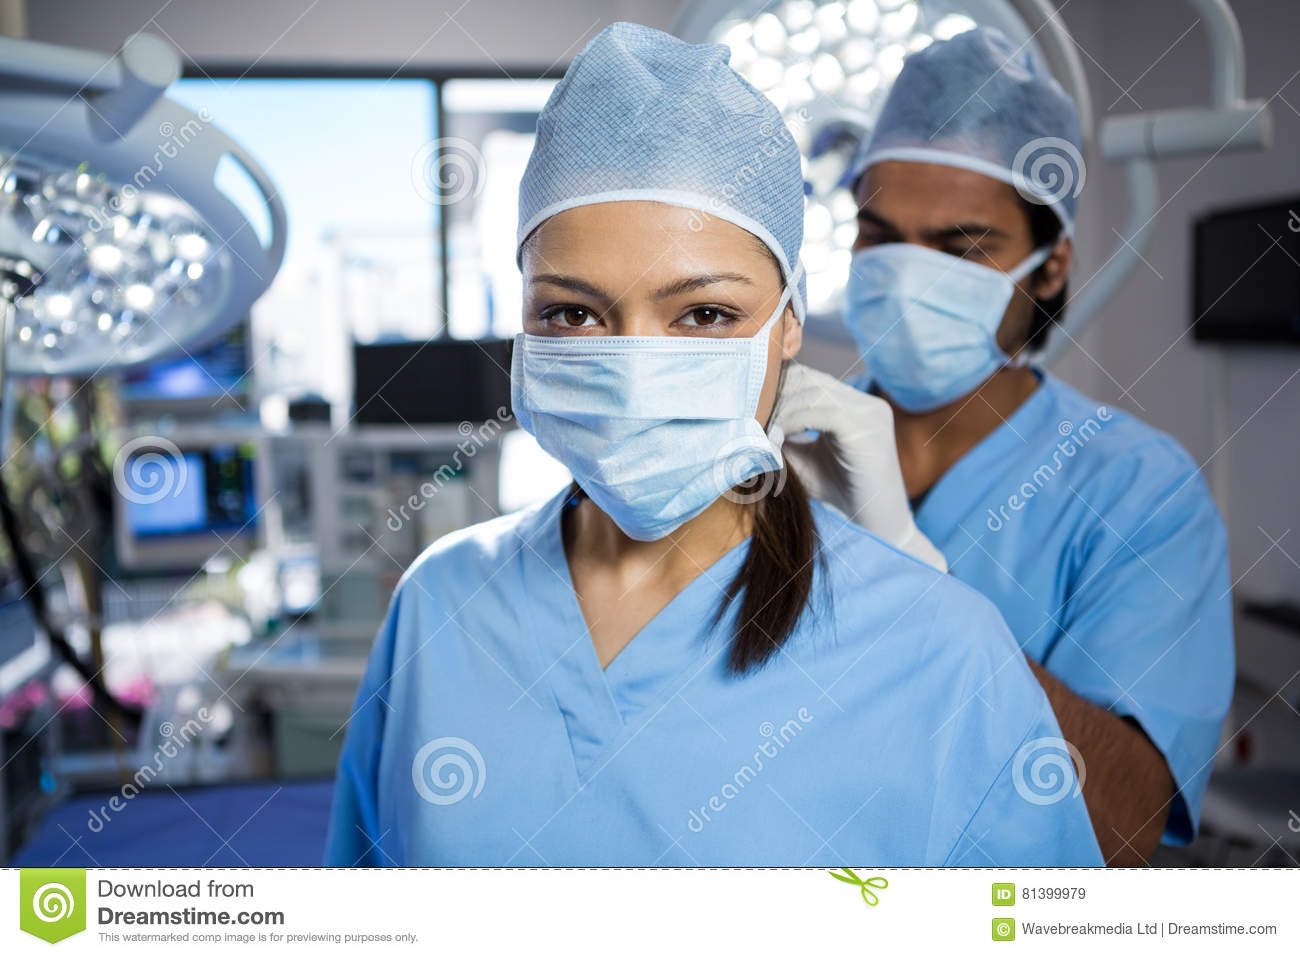mask: (519, 326, 754, 542), (828, 254, 1025, 436)
